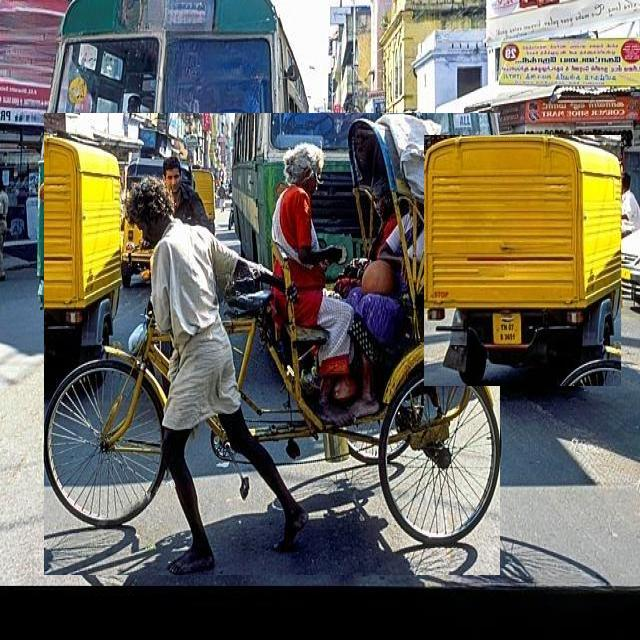bicycle: (44, 114, 500, 575)
bus: (38, 0, 310, 305)
truck: (424, 136, 621, 386)
